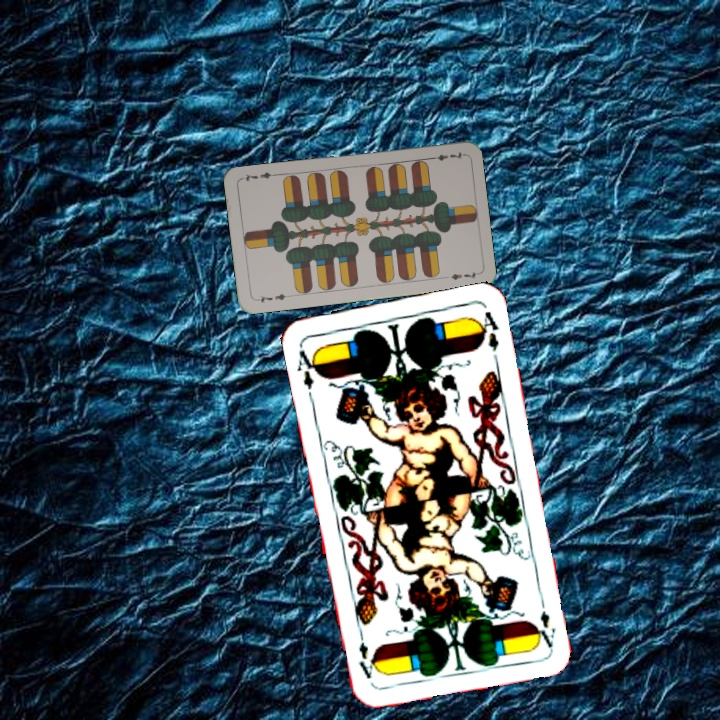E7: (252, 289, 293, 305), (425, 148, 466, 164)
EA: (293, 343, 322, 402), (533, 591, 558, 650)
